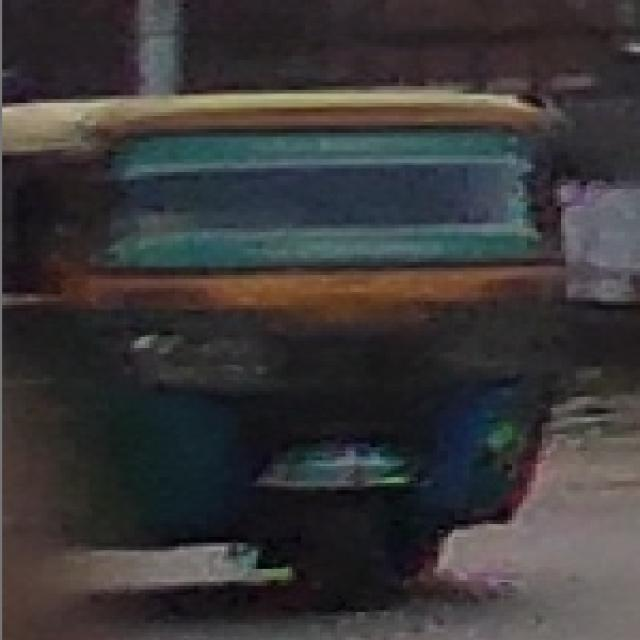autorickshaw: (4, 92, 587, 612)
